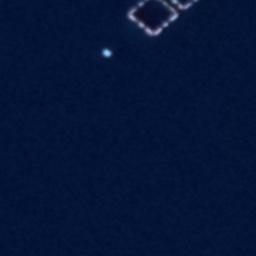square_solid: (123, 1, 186, 39)
